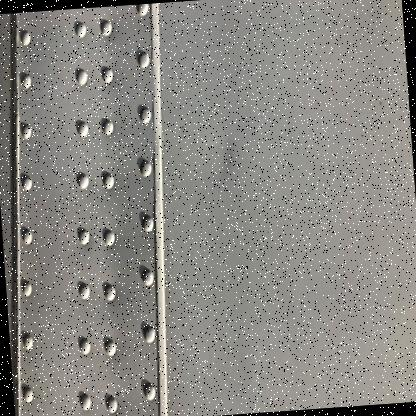Nocrack: (12, 12, 398, 388)
